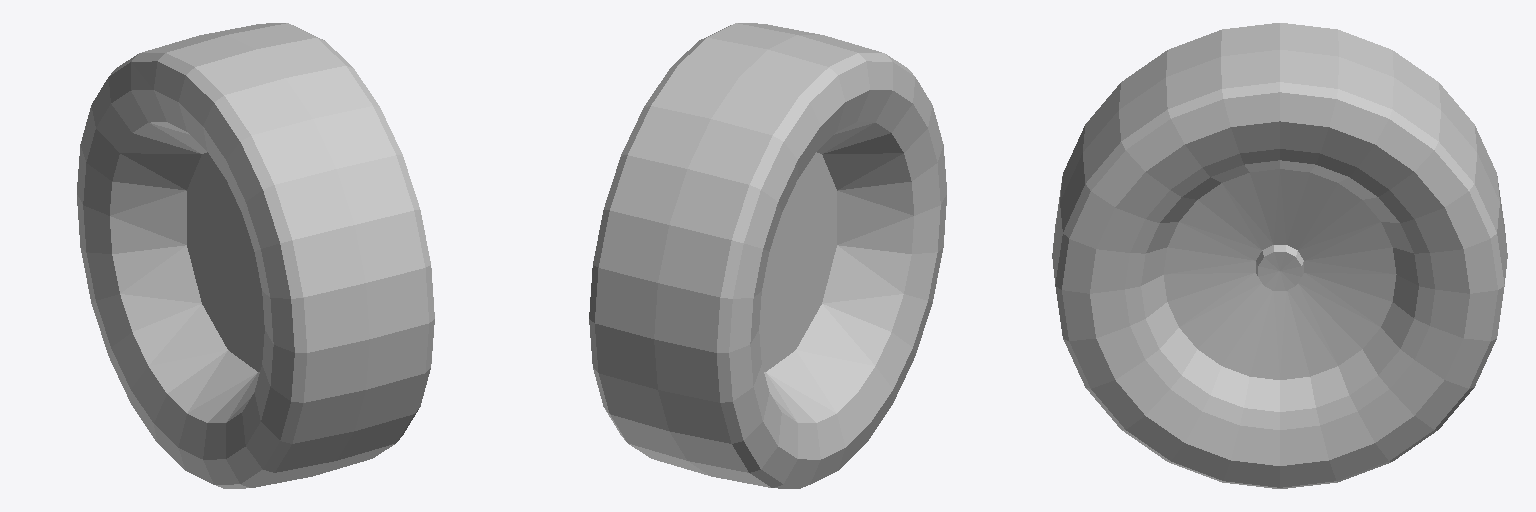
File: InterceptorFrontWheel.obj
3 views of the same model, side by side, from view 1: azimuth 30°, elevation 25°; view 2: azimuth 150°, elevation 25°; view 3: azimuth 270°, elevation 25° (orthographic).
Parts seen in each view (by area): view 1: InterceptorWheel.003; view 2: InterceptorWheel.003; view 3: InterceptorWheel.003.
Part boxes in pixels (x1,y1,x2,y2): InterceptorWheel.003: (77,23,434,488); InterceptorWheel.003: (589,23,946,488); InterceptorWheel.003: (1052,23,1507,488).
Bounding box in the file's own units: 0.5937 × 1.51 × 1.51.